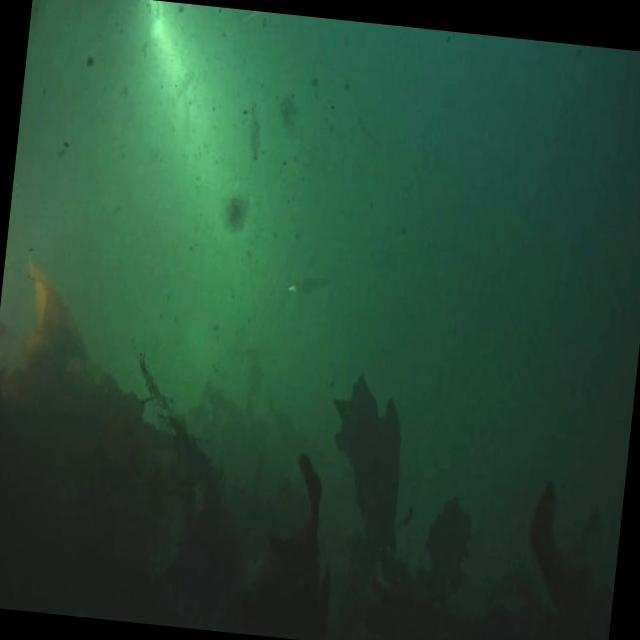fish: (288, 274, 332, 301)
